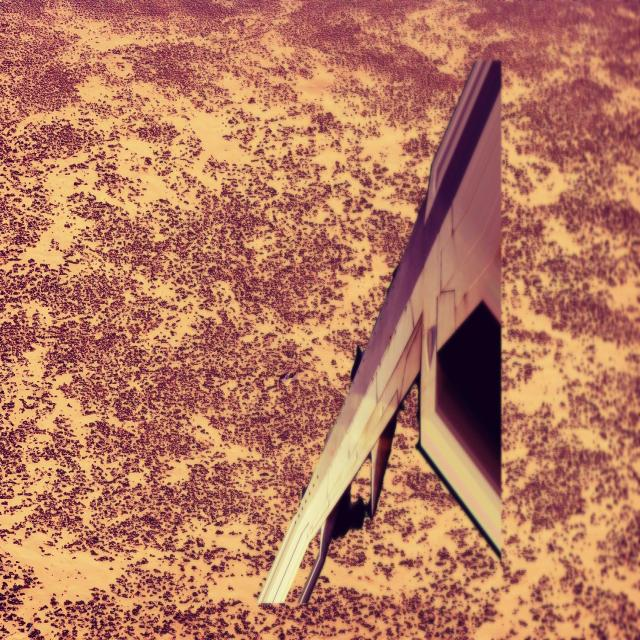airplane: (257, 56, 503, 607)
